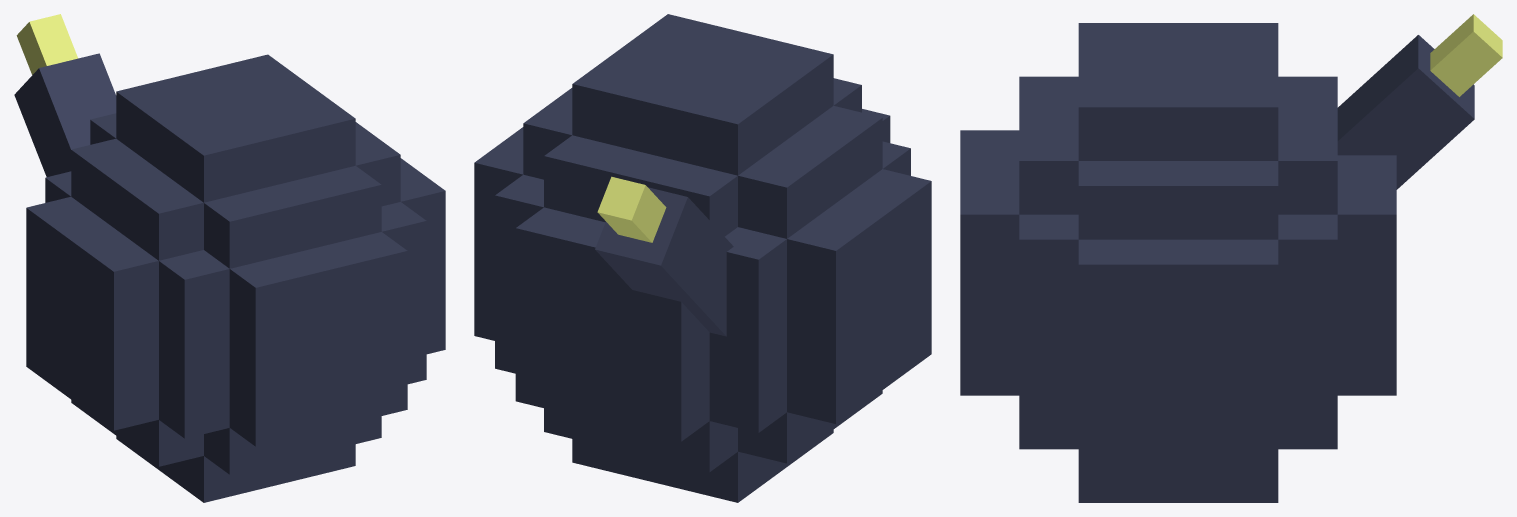
The model's file is bomb.fbx.
3 renders of one model, left to right at view 1: azimuth 30°, elevation 25°; view 2: azimuth 150°, elevation 25°; view 3: azimuth 270°, elevation 25°, orthographic. The views are drawn at different scales.
Visible parts, largest first — view 1: BombModel; view 2: BombModel; view 3: BombModel.
Boxes of the visible parts, x1,y1,x2,y2 form: BombModel: [14, 14, 445, 502]; BombModel: [474, 14, 931, 502]; BombModel: [960, 14, 1502, 502].
Bounding box in the file's own units: 2.25 × 2.3 × 2.8.
